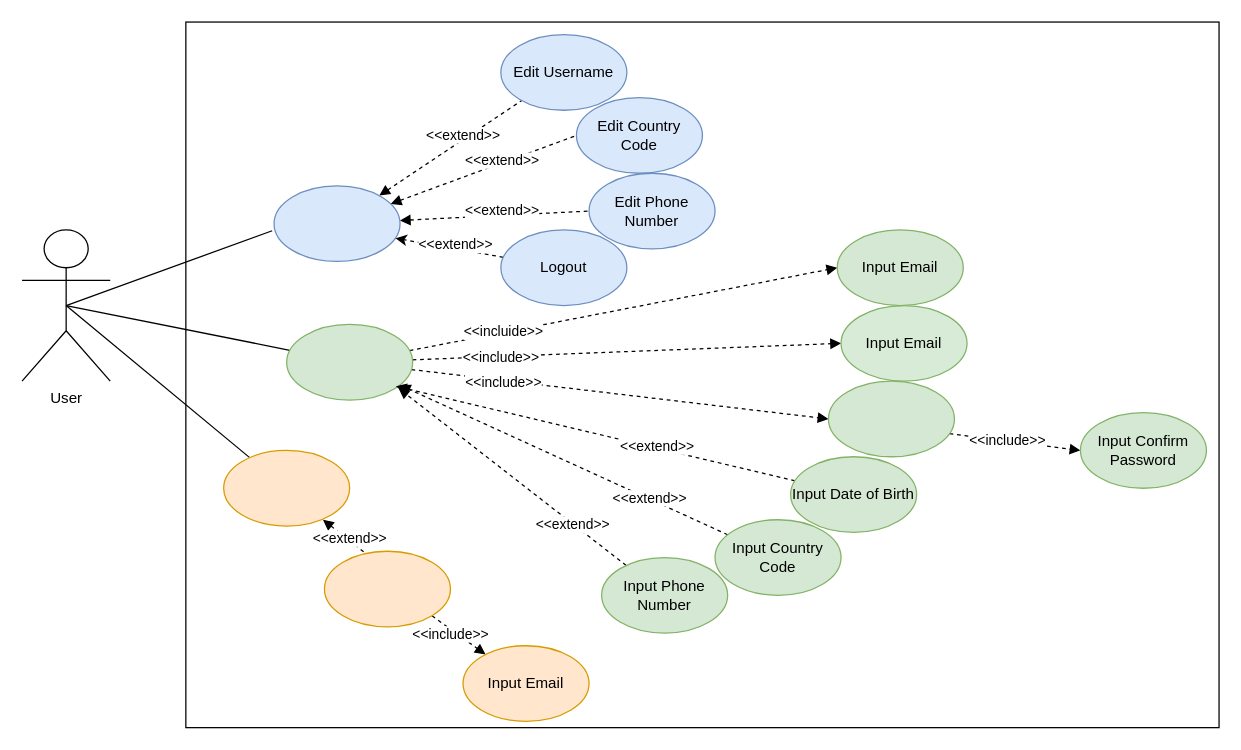
The diagram is 1241 pixels wide and 750 high, and some of its shapes have lost their labels. Each missing label, with the centre of its shape:
ForgotPassword: the point at 286,487
Input Password: the point at 890,418
Login: the point at 336,223
Register: the point at 349,361
Reset Password: the point at 386,588
